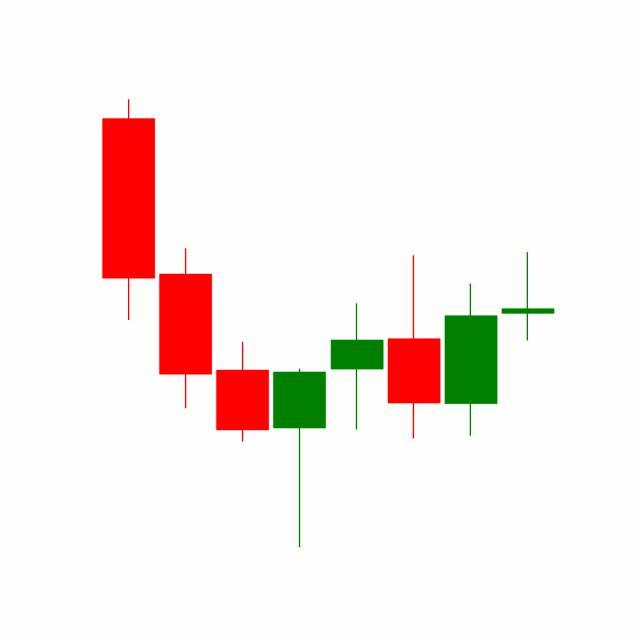Hikkake Pattern: (270, 248, 555, 549)
